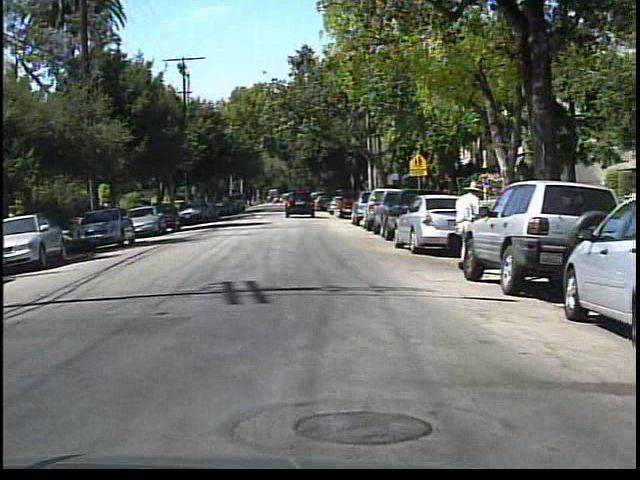person: (442, 180, 485, 278)
